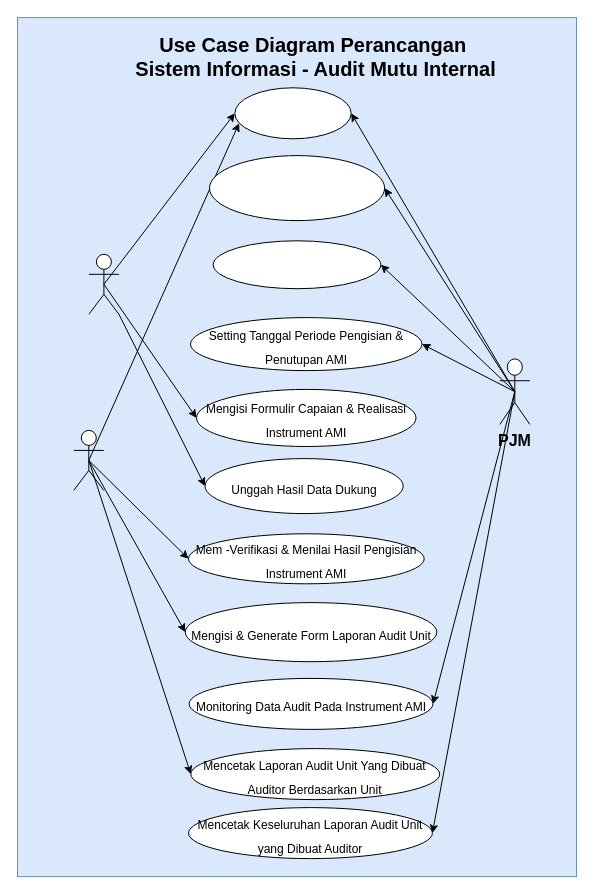
Some shapes in this 594 by 894 pixel diagram are drawn without their labels. The shapes that lost their labels are listed below. From the top down, each one's box as (x1, y1, x2, y2) in pixels, then its label:
(234, 87, 351, 139): Login
(208, 155, 385, 221): Menyusun Daftar Audite & Auditor
(88, 253, 119, 314): Auditee
(212, 240, 381, 289): Manajemen Data Master Instrument AMI
(73, 429, 104, 490): Auditor
